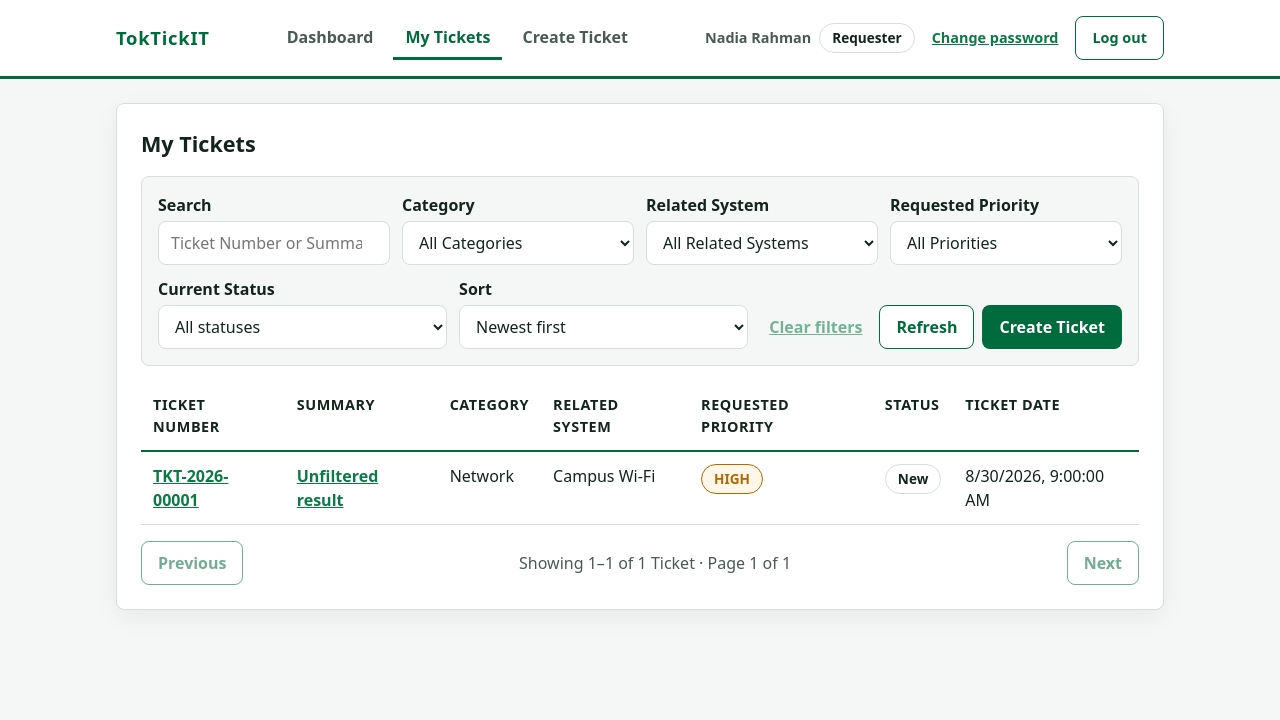
Test: My Tickets — each control changes what is displayed › Category replaces the rows on screen, not just the query
Expected: the heading "My Tickets" is shown, 141,129 -> 256,158
Expected: the link "Unfiltered result" is shown, 297,465 -> 378,511
Select "Hardware" in the dropdown labelled "Category": (518, 243) 402,221 -> 634,265
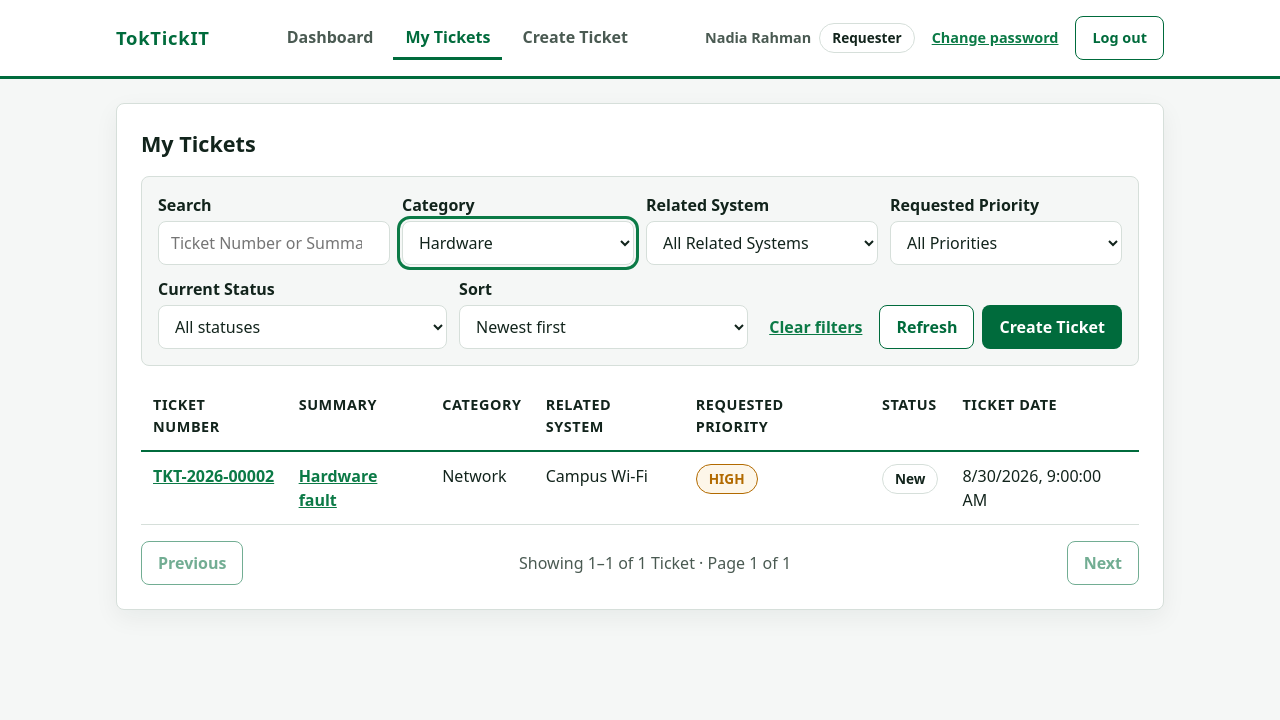
Result: the link "Hardware fault" is shown at 299,465 -> 377,511
Result: the link "Unfiltered result" is gone
